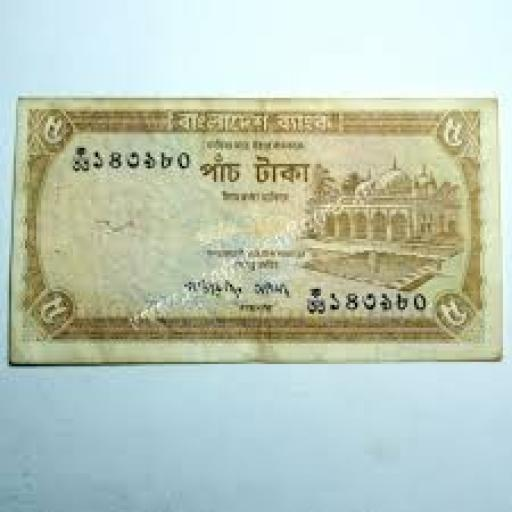5taka: (11, 98, 501, 362)
